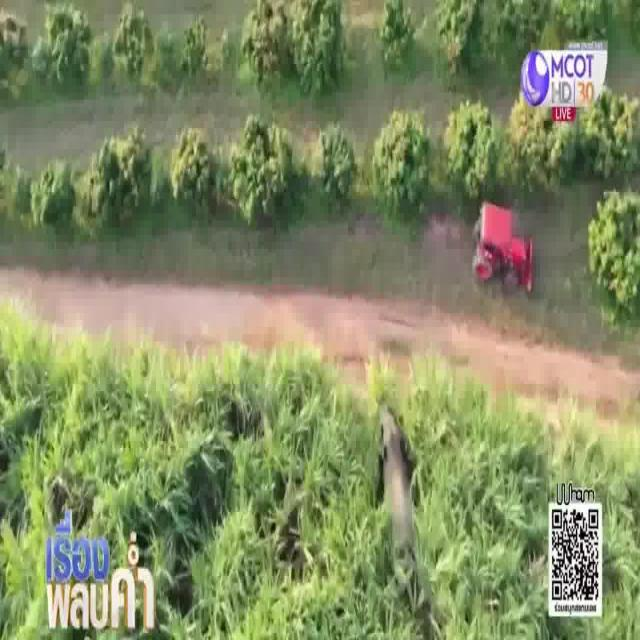Elephant: (374, 397, 418, 552)
